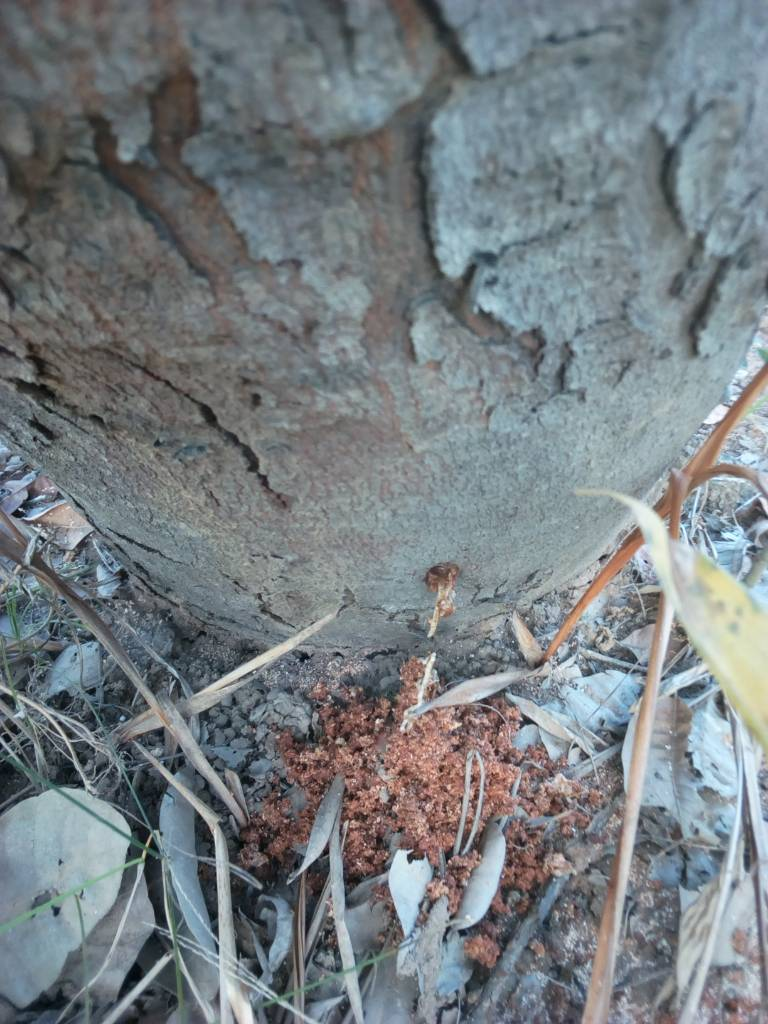Apate terebrans: (286, 525, 579, 735)
